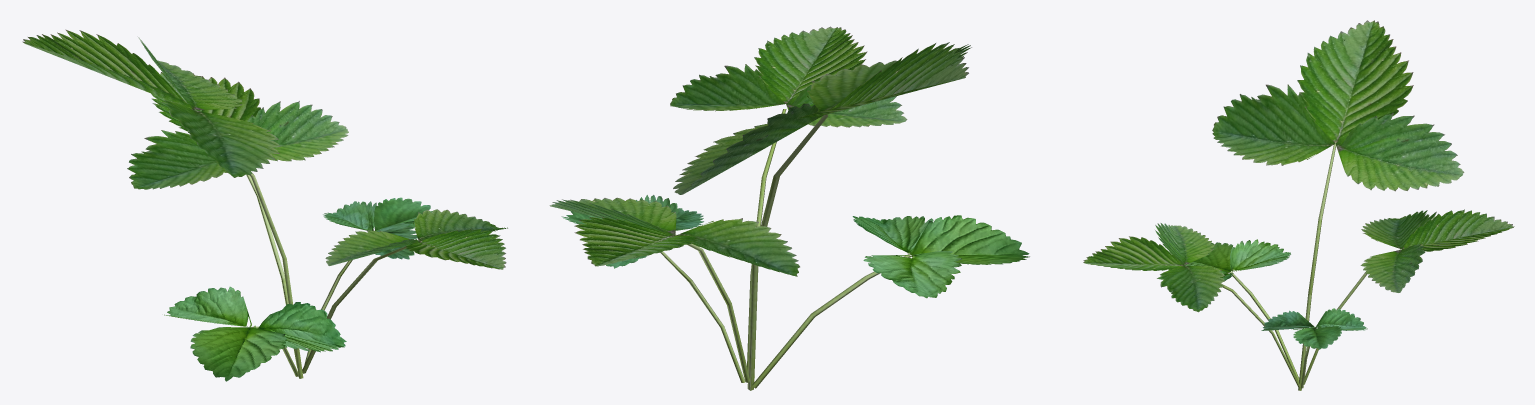
The model's file is Strawberry2.fbx.
3 views of the same model, side by side, from view 1: azimuth 30°, elevation 25°; view 2: azimuth 150°, elevation 25°; view 3: azimuth 270°, elevation 25° (orthographic). The views are drawn at different scales.
Visible parts, largest first — view 1: Strawberry2_LOD0; view 2: Strawberry2_LOD0; view 3: Strawberry2_LOD0.
Boxes of the visible parts, box(x1,y1,x2,y2) form: Strawberry2_LOD0: box(22, 29, 507, 381); Strawberry2_LOD0: box(549, 26, 1029, 390); Strawberry2_LOD0: box(1083, 20, 1514, 390).
Size of what is drawn, in the model's own units: 43.14 by 37.13 by 52.33.
